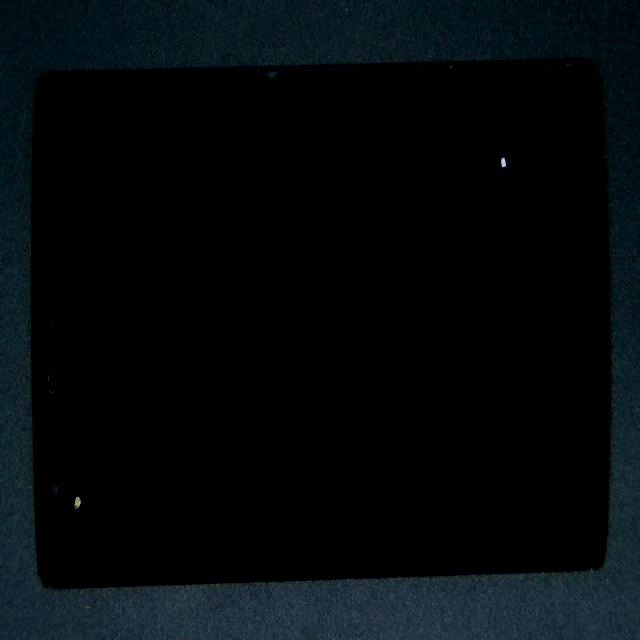stain: (282, 69, 640, 207), (19, 306, 116, 640)
